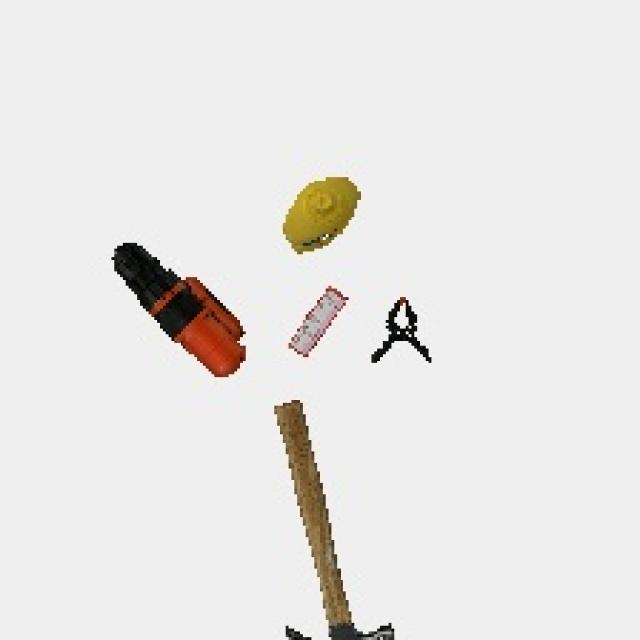GelatinBox: (287, 284, 352, 364)
Hammer: (266, 396, 406, 640)
MediumClamp: (370, 294, 435, 372)
MustardBottle: (275, 175, 367, 261)
PowerDrill: (108, 239, 253, 386)
